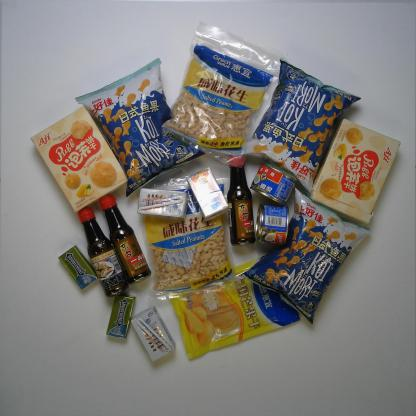Canned Food: (248, 160, 298, 205), (255, 202, 290, 247)
Dessert: (30, 106, 129, 212), (309, 116, 401, 226)
Dried Fruit: (160, 21, 286, 169), (168, 254, 301, 362), (138, 171, 242, 302)
Gum: (58, 244, 98, 290), (106, 294, 136, 338)
Milk: (130, 305, 176, 363), (186, 166, 230, 222), (136, 188, 188, 220)
Puffed Food: (233, 184, 371, 324), (73, 57, 206, 198), (242, 58, 362, 197)
Seasoner: (76, 206, 130, 298), (99, 192, 152, 285), (227, 150, 256, 246)
